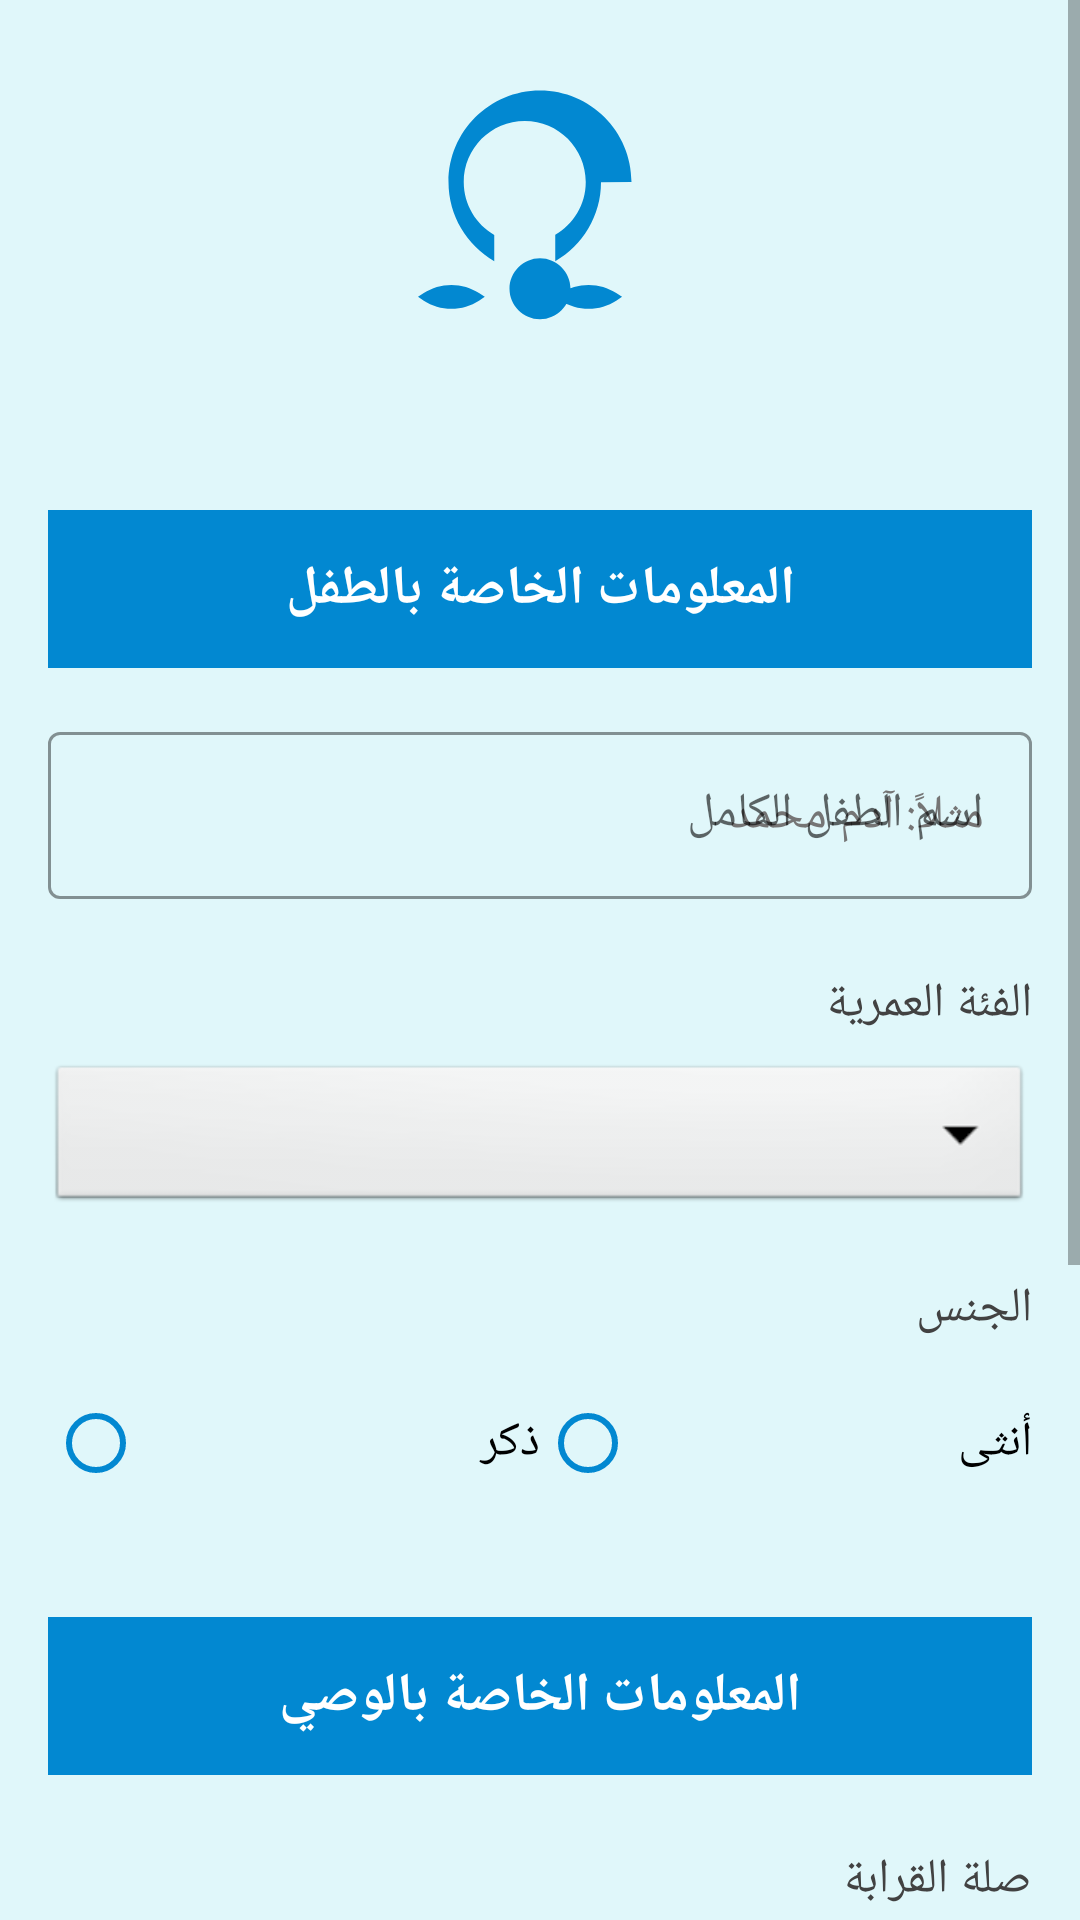

Icons on this 1080w x 1920h Android screen, each with the point to tap as [x,y]:
شعار التطبيق: [525,205]
